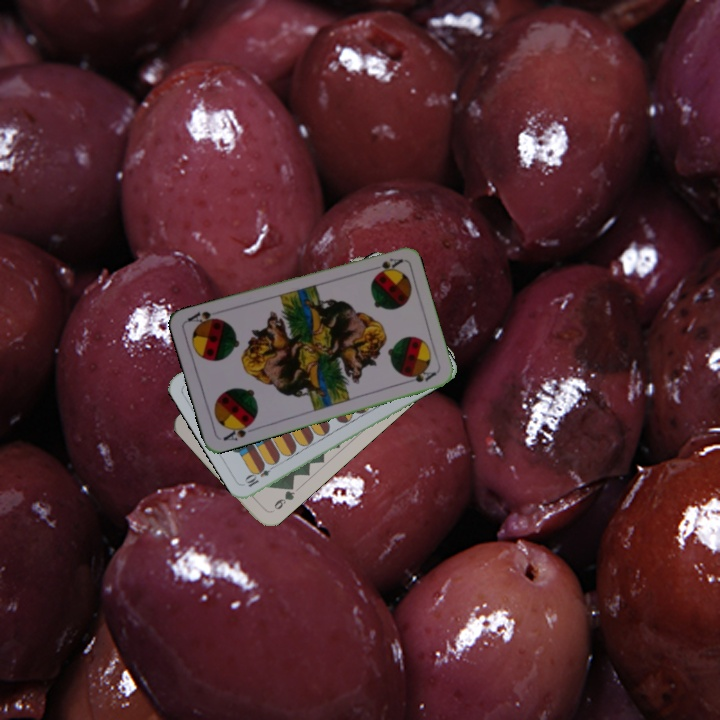E10: (241, 460, 279, 490)
G9: (267, 480, 298, 515)
SA: (219, 418, 256, 443), (365, 254, 405, 275)
